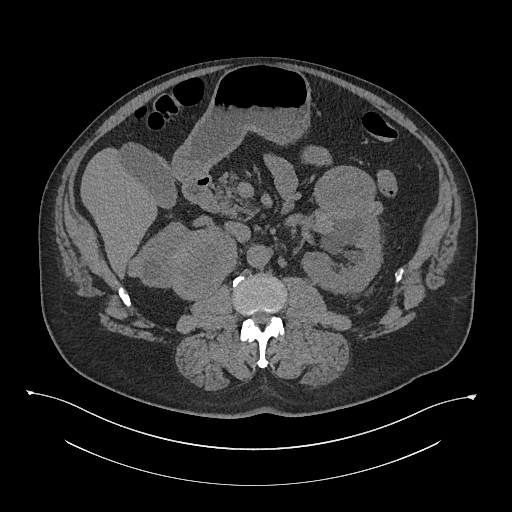Lesion: (173, 232, 238, 300)
